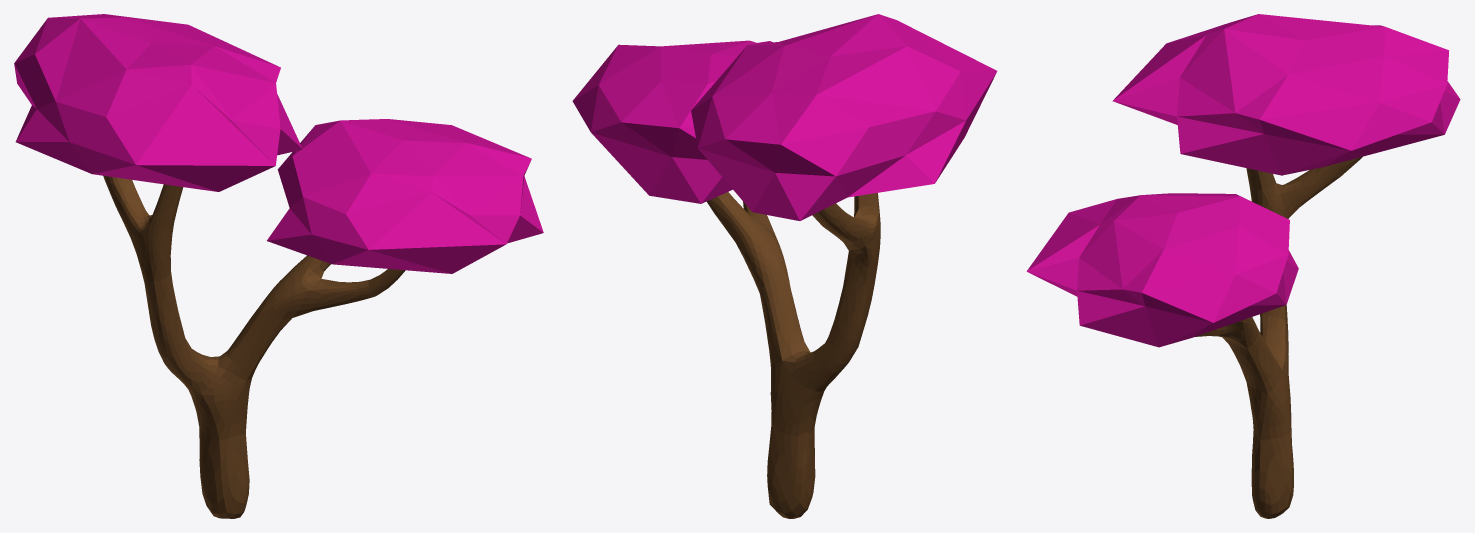
The model's file is JapanTree.fbx.
3 views of the same model, side by side, from view 1: azimuth 30°, elevation 25°; view 2: azimuth 150°, elevation 25°; view 3: azimuth 270°, elevation 25° (orthographic). The views are drawn at different scales.
Visible parts, largest first — view 1: Icosphere.001, Cube; view 2: Icosphere.001, Cube; view 3: Icosphere.001, Cube.
Part boxes in pixels (x1,y1,x2,y2): Icosphere.001: (14,14,543,273); Cube: (103,175,405,518); Icosphere.001: (572,14,997,220); Cube: (706,192,880,518); Icosphere.001: (1026,14,1460,347); Cube: (1195,156,1362,518).
Bounding box in the file's own units: 787 × 871 × 747.
